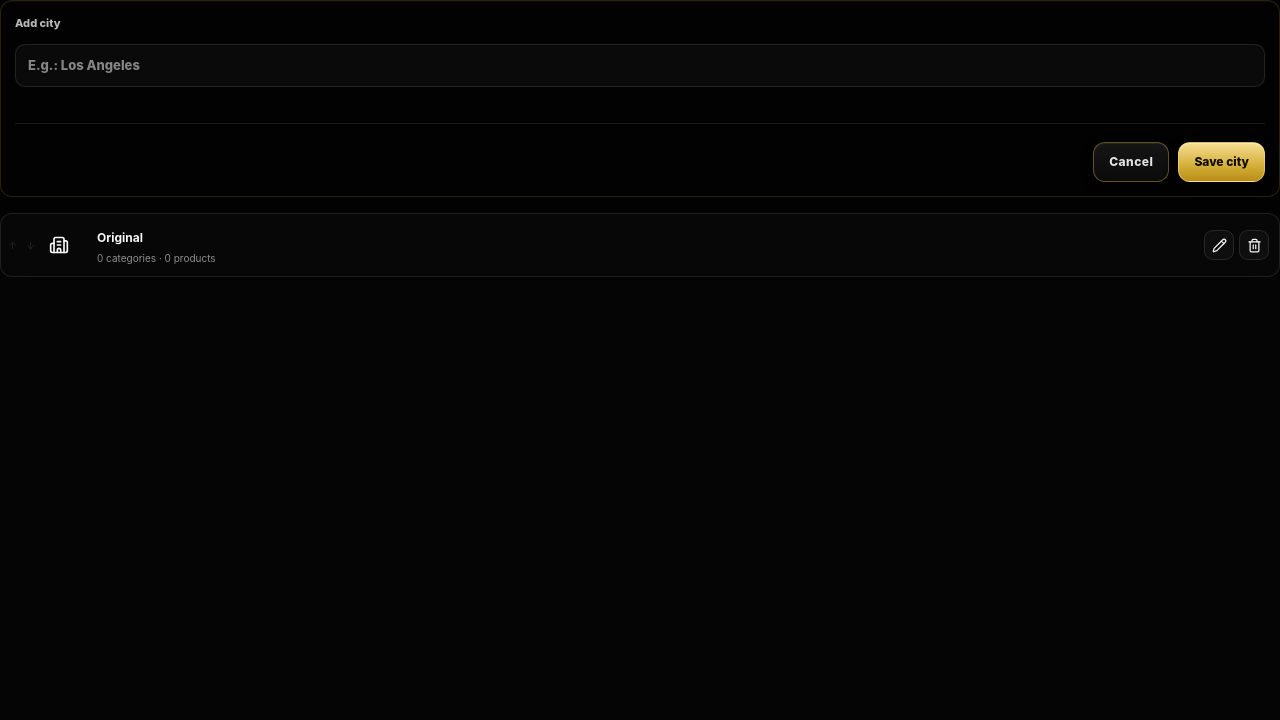
Test: catalog edit conflicts › keeps a city draft and its opened version after a conflict
Step 1. Click the button named "Edit city" → click(1219, 245), box [1204,230,1234,260]
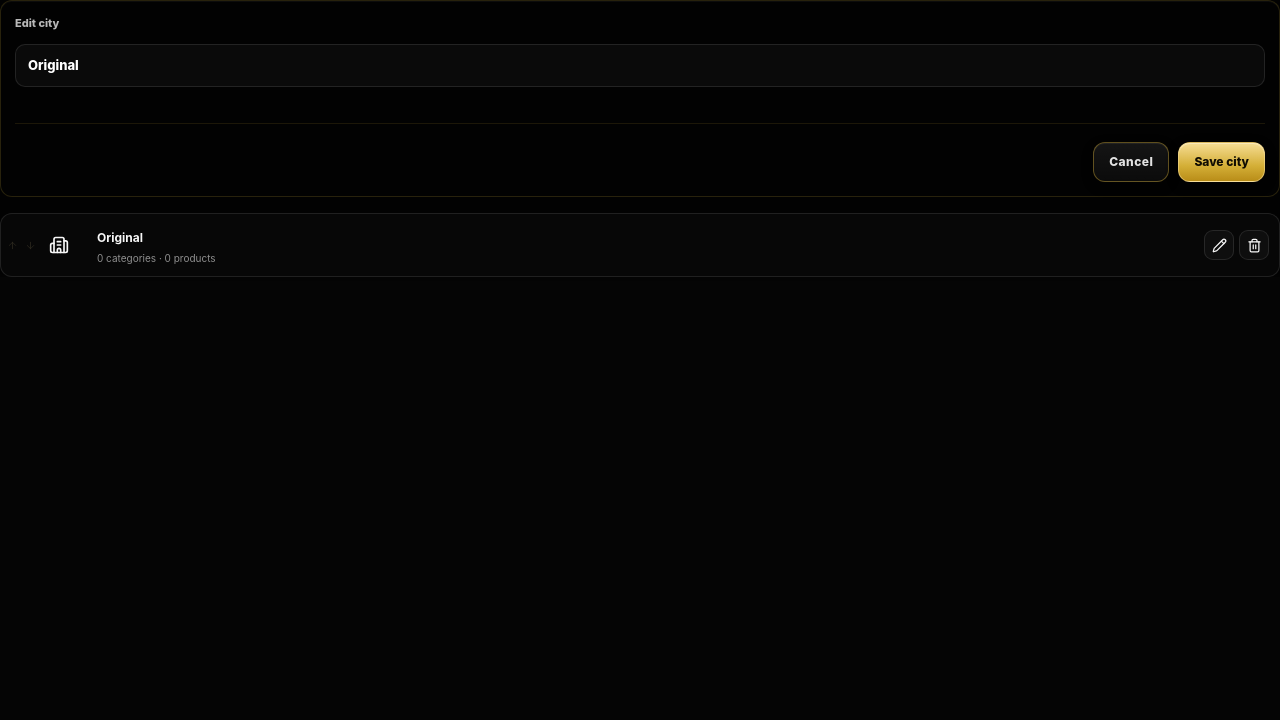
Step 2. Replace the text in the field showing "Original" with "Meu rascunho" → (640, 65), box [15,44,1265,87]
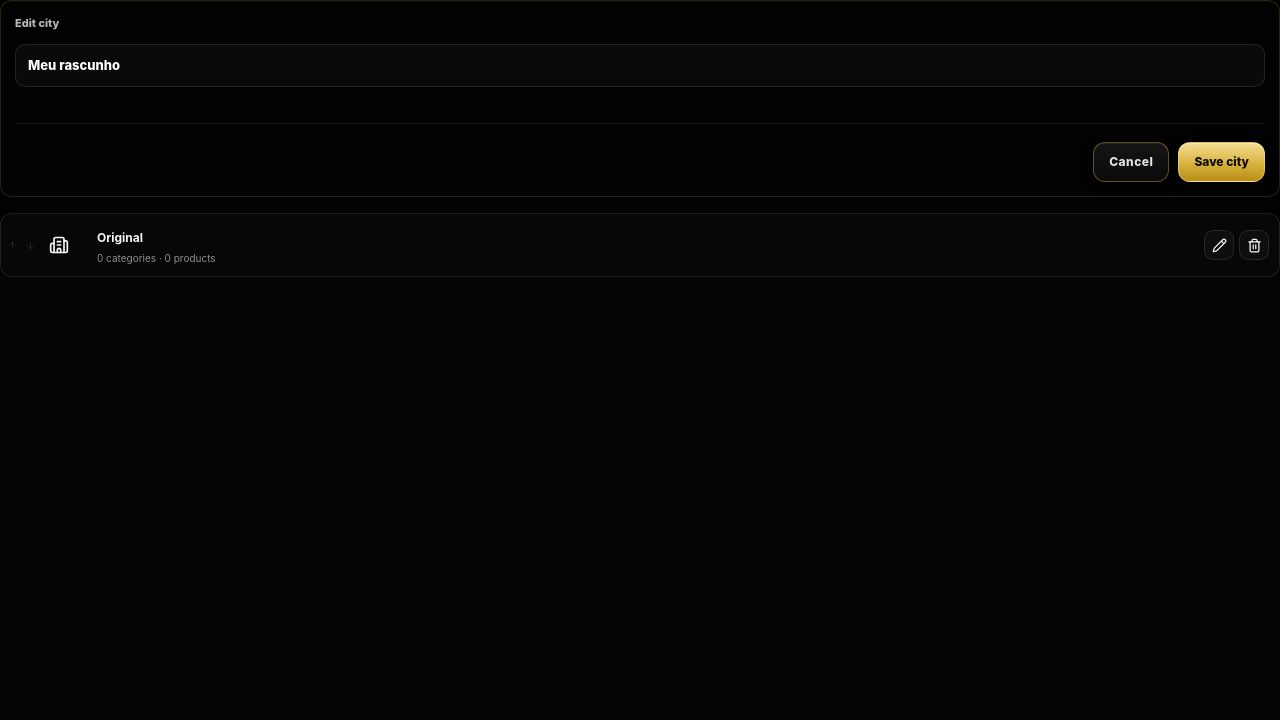
Step 3. Click the button "Save city" → click(1222, 162), box [1178,142,1265,182]
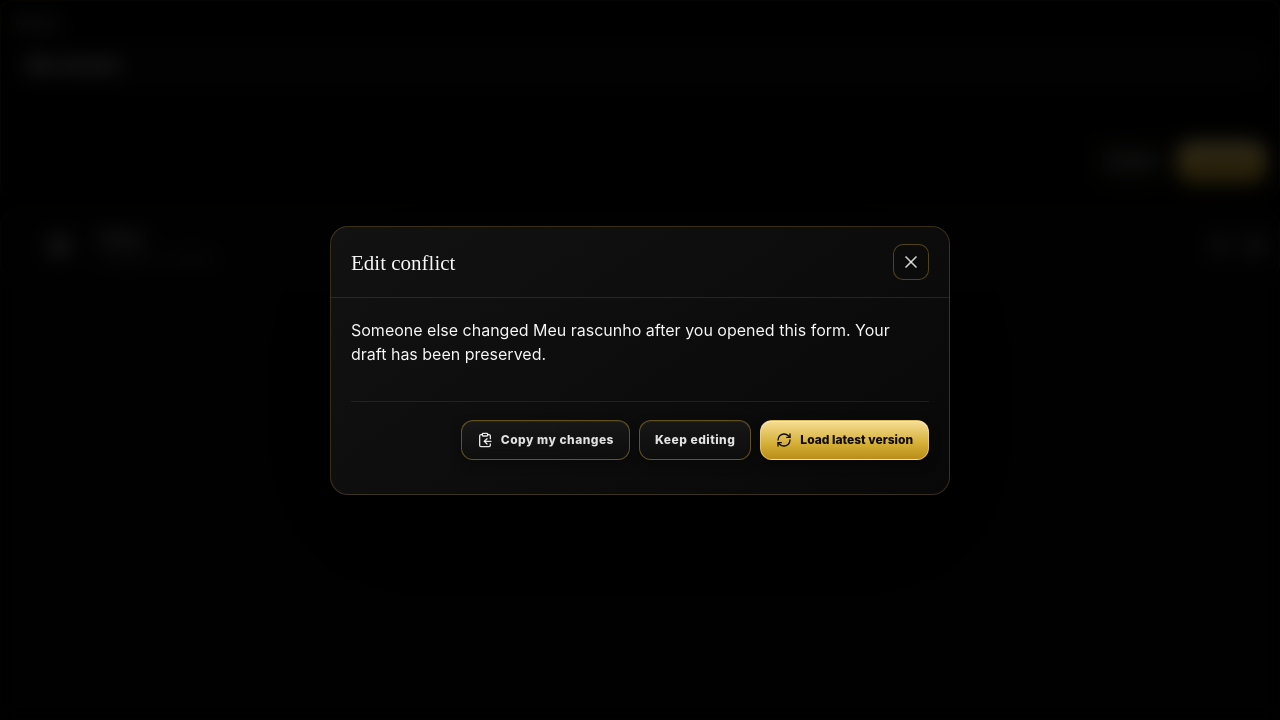
Expected: the dialog "Edit conflict" is shown, [330,226,950,494]
